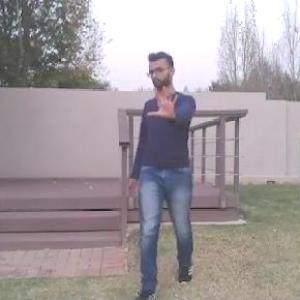follow_hand: (145, 81, 182, 123)
